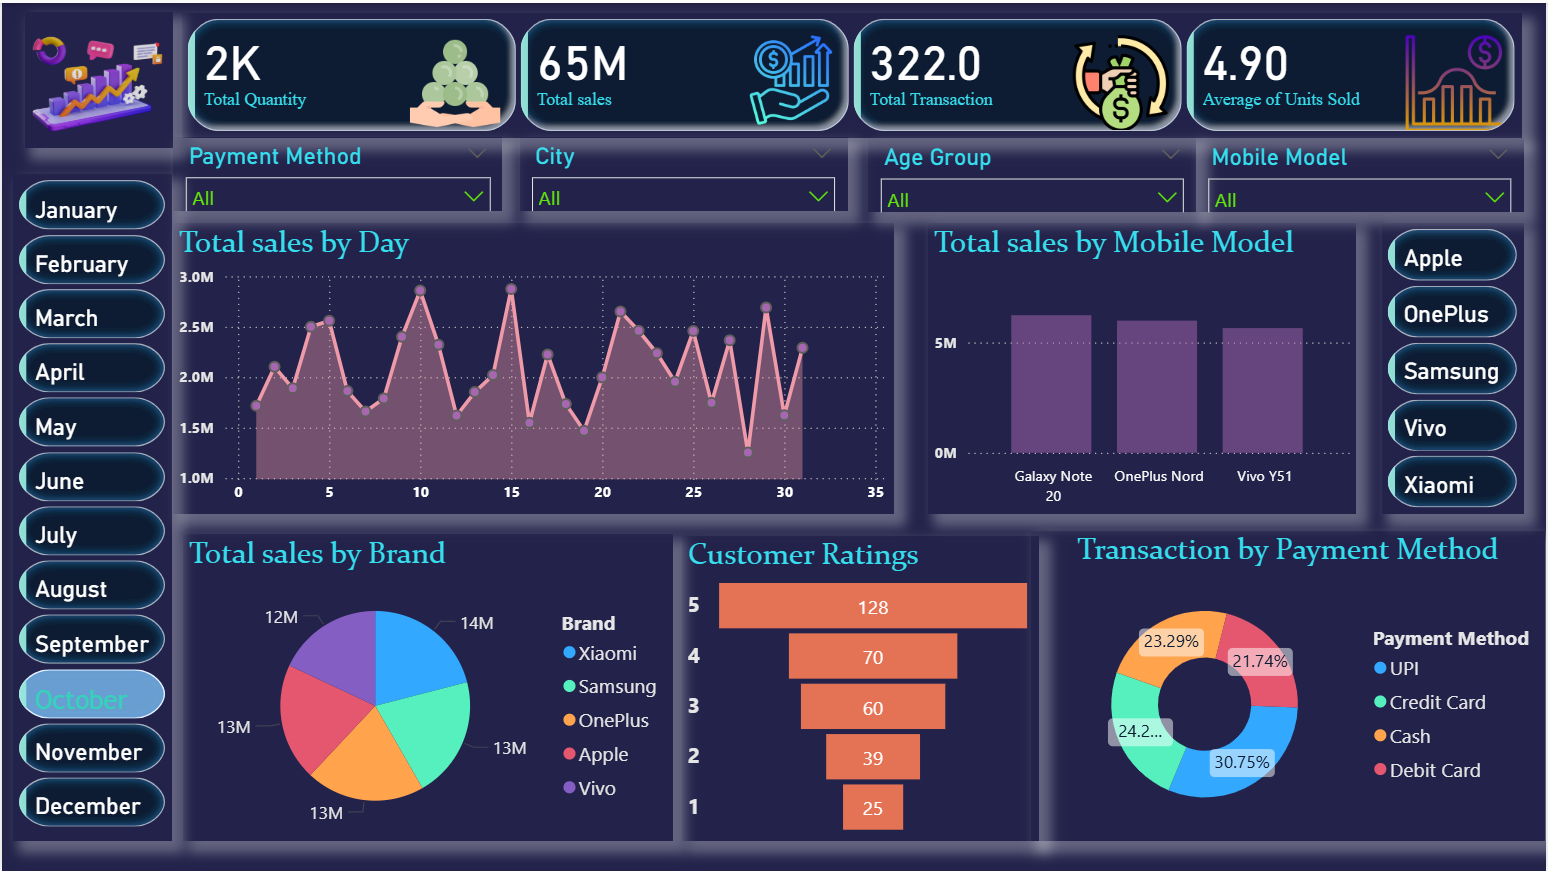

The dashboard page shown, as its layout file describes it:
{"tool":"powerbi","page":{"name":"Dashboard","canvas":[1280,720],"ordinal":0},"visuals":[{"type":"advancedSlicerVisual","fields":{"Values":["Sheet1.Date.Variation.Date Hierarchy.Month"]},"box":[9.3,141.8,131.3,553.1],"z":0},{"type":"cardVisual","fields":{"Data":["sales_data.Total Quantity","sales_data.Total sales1","CountNonNull(sales_data.Transaction ID)","Avg(sales_data.Units Sold)"]},"box":[149.6,7.8,1111,103.8],"z":1000},{"type":"lineChart","fields":{"Y":["sales_data.Total sales"],"Category":["sales_data.Date.Variation.Date Hierarchy.Month","sales_data.Date.Variation.Date Hierarchy.Day"]},"box":[141.8,182.4,597.2,241.7],"z":2000},{"type":"donutChart","title":"Transaction  by Payment Method","fields":{"Category":["sales_data.Payment Method"],"Y":["CountNonNull(sales_data.Transaction ID)"]},"box":[853.1,437.7,426.6,257.9],"z":3000},{"type":"pieChart","fields":{"Category":["sales_data.Brand"],"Y":["sales_data.Total sales"]},"box":[149.9,440.4,406.7,254.5],"z":4000},{"type":"funnel","title":"Customer Ratings","fields":{"Y":["CountNonNull(sales_data.Customer Ratings)"],"Category":["sales_data.Customer Ratings"]},"box":[563.5,441.5,296.3,253.3],"z":5000},{"type":"advancedSlicerVisual","fields":{"Values":["sales_data.Brand"]},"box":[1144.5,182.4,117.4,241.7],"z":6000},{"type":"columnChart","fields":{"Category":["sales_data.Mobile Model"],"Y":["sales_data.Total sales"]},"box":[768.1,182.4,354.4,241.7],"z":7000},{"type":"slicer","fields":{"Values":["sales_data.Payment Method"]},"box":[141.8,110.4,273.1,61.6],"z":8000},{"type":"slicer","fields":{"Values":["sales_data.City"]},"box":[428.8,110.4,271.9,61.6],"z":9000},{"type":"slicer","fields":{"Values":["sales_data.AgeGroup"]},"box":[718.1,111.5,271.9,61.6],"z":10000},{"type":"slicer","fields":{"Values":["sales_data.Mobile Model"]},"box":[990,111.5,271.9,61.6],"z":11000},{"type":"image","box":[18.6,7,123.2,112.7],"z":12000}]}

Visuals, with their boxes in screenshot pixels (x1, y1, x2, y2), scaled from the page's 1280x720 canvas onto the 1548x871 screenshot:
advancedSlicerVisual - Sheet1.Date.Variation.Date Hierarchy.Month: 11 172 170 841
cardVisual - sales_data.Total Quantity x sales_data.Total sales1: 181 9 1525 135
lineChart - sales_data.Total sales x sales_data.Date.Variation.Date Hierarchy.Month: 171 221 894 513
"Transaction  by Payment Method" donutChart: 1032 529 1547 841
pieChart - sales_data.Brand x sales_data.Total sales: 181 533 673 841
"Customer Ratings" funnel: 681 534 1040 841
advancedSlicerVisual - sales_data.Brand: 1384 221 1526 513
columnChart - sales_data.Mobile Model x sales_data.Total sales: 929 221 1358 513
slicer - sales_data.Payment Method: 171 134 502 208
slicer - sales_data.City: 519 134 847 208
slicer - sales_data.AgeGroup: 868 135 1197 209
slicer - sales_data.Mobile Model: 1197 135 1526 209
image: 22 8 171 145
